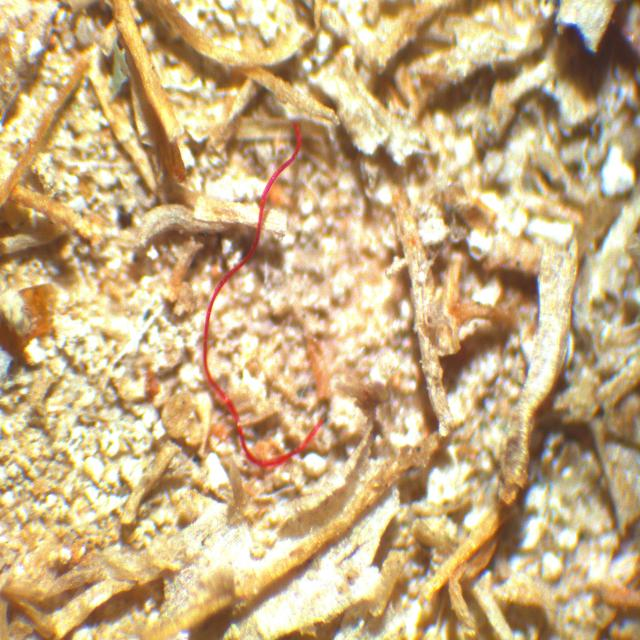microplastic: (185, 118, 329, 475)
